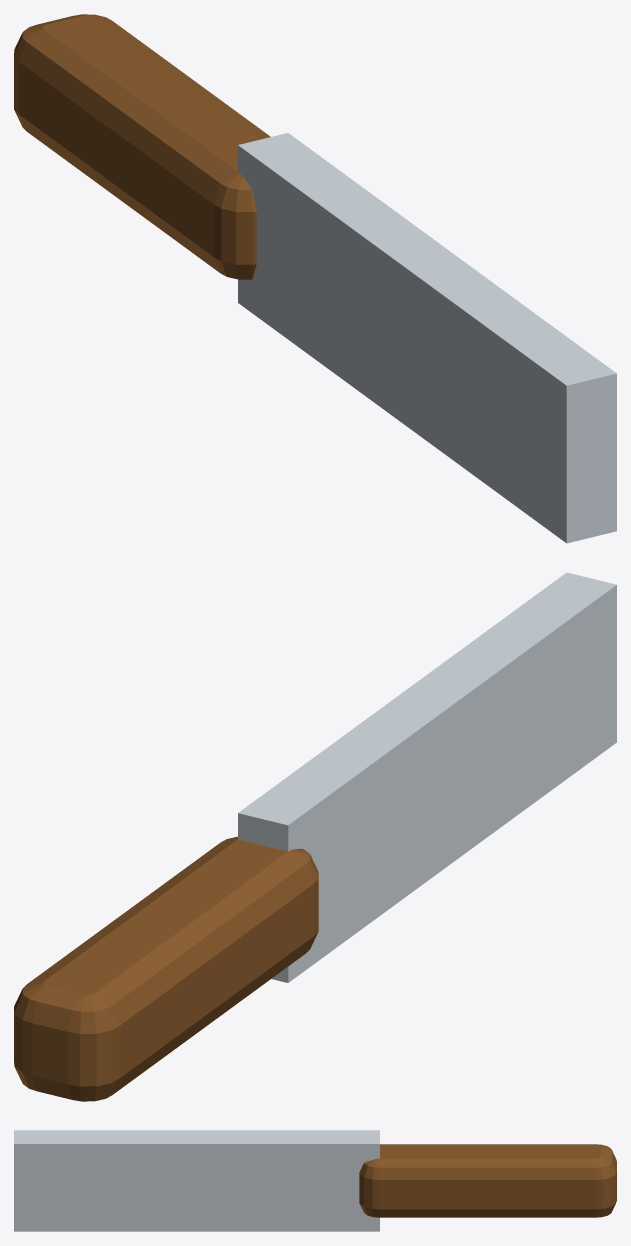
File: harvest-knife.glb
The picture shows the model from 3 angles, top to bottom: view 1: azimuth 30°, elevation 25°; view 2: azimuth 150°, elevation 25°; view 3: azimuth 270°, elevation 25°; orthographic projection. The views are drawn at different scales.
Size of the model in its own units: 0.06 by 0.09 by 0.56.
